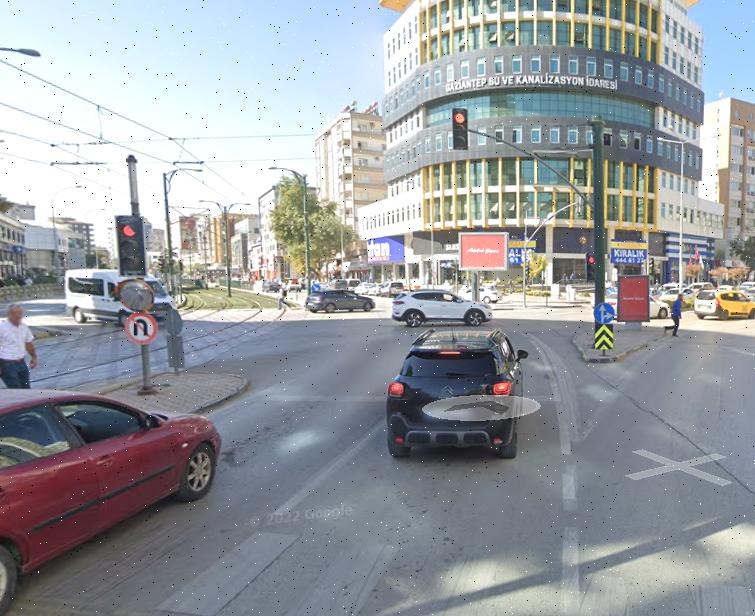redlight: (118, 213, 145, 274), (452, 108, 468, 152), (586, 251, 599, 281)
